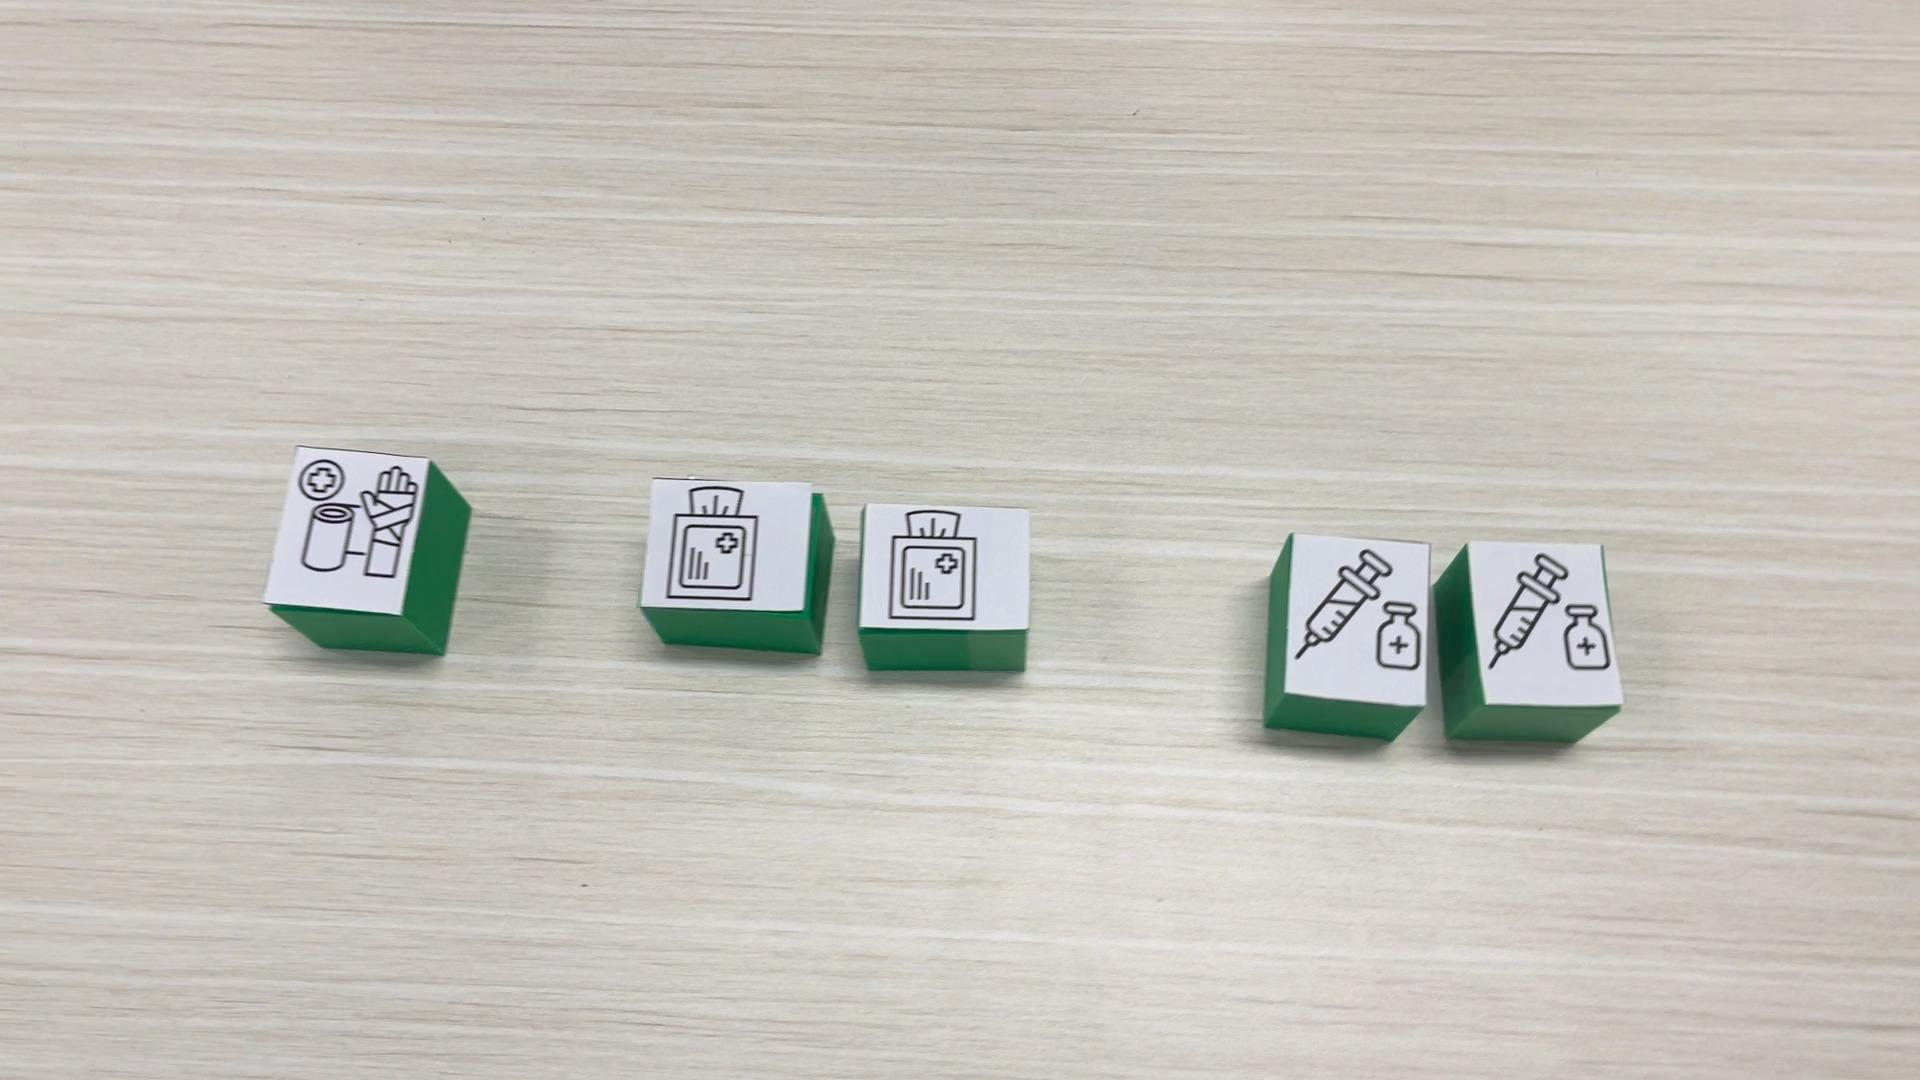Bandages: (262, 446, 472, 657)
Gauze: (638, 476, 835, 655), (858, 500, 1034, 673)
antiseptic cream: (1432, 534, 1625, 744), (1267, 531, 1431, 744)
